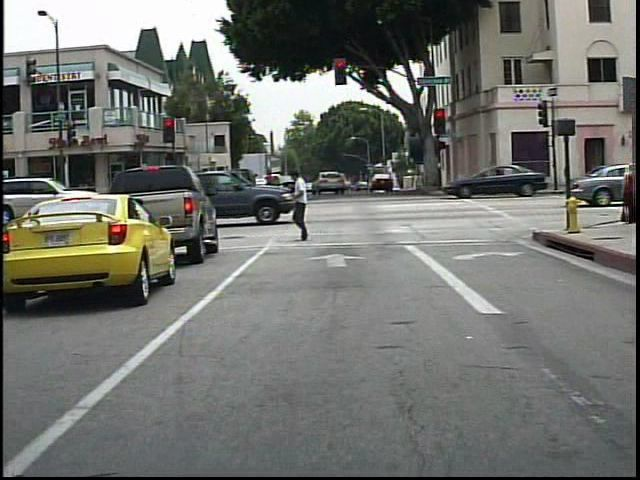person: (286, 169, 325, 243), (616, 163, 639, 229), (259, 167, 286, 209)
